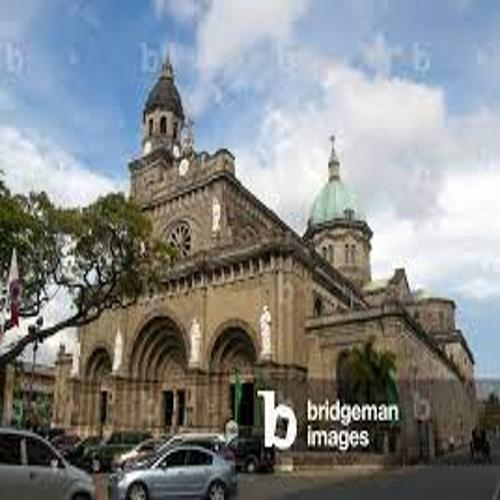Manila Cathedral Church: (32, 46, 478, 455)
